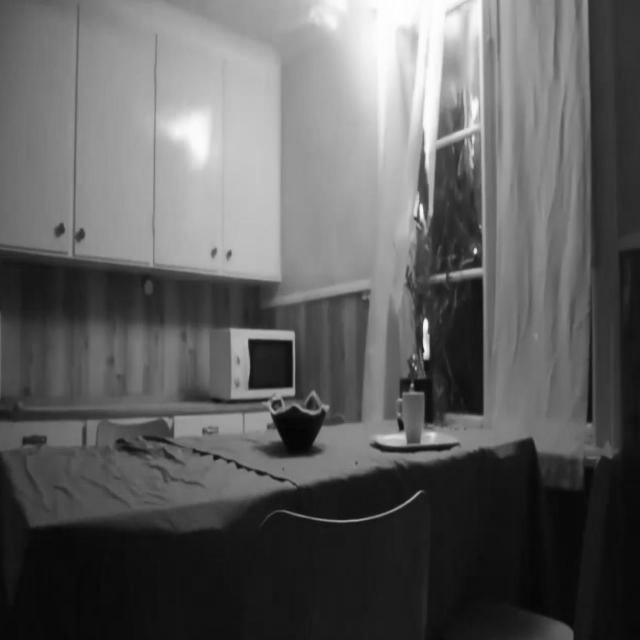smoke: (302, 0, 476, 130), (421, 312, 429, 336)
